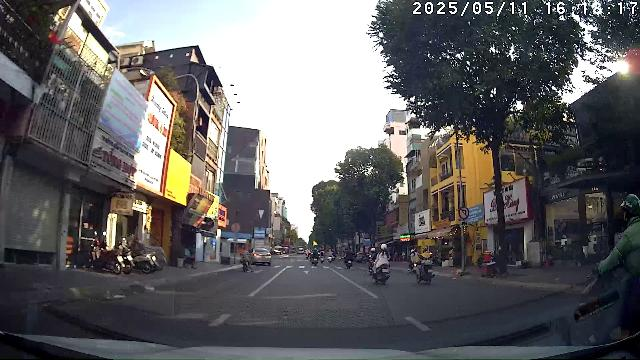123a-cam-re-trai: (458, 206, 470, 220)
